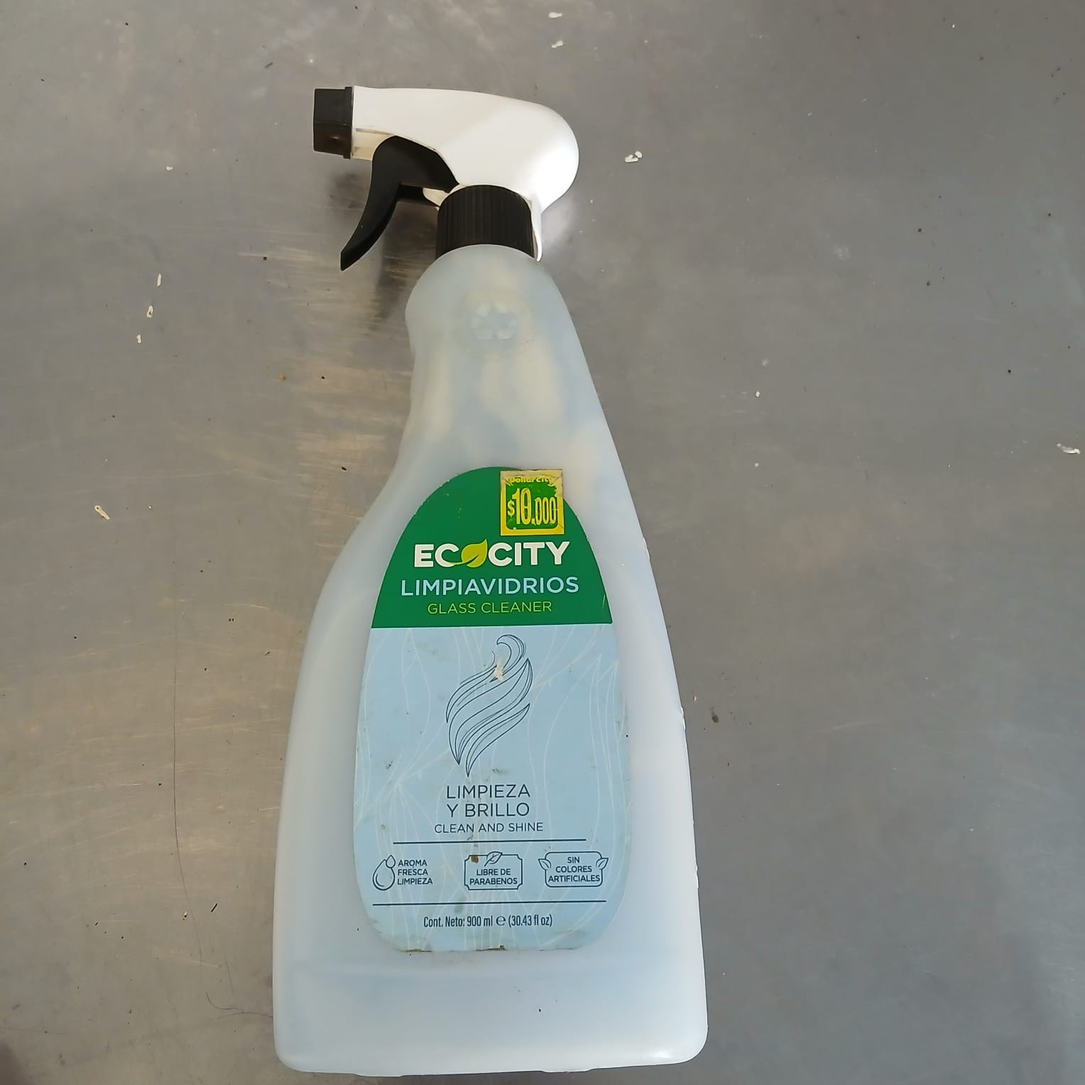Plastico: (274, 85, 708, 1074)
